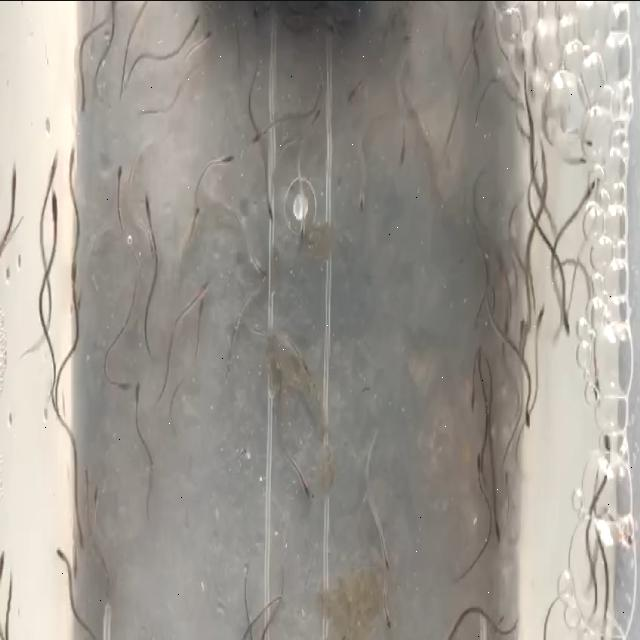active_glass_eel: (58, 135, 76, 193), (180, 207, 206, 246), (294, 350, 320, 388), (210, 146, 240, 178), (70, 274, 88, 324), (72, 508, 88, 564), (249, 113, 271, 153), (141, 182, 157, 236), (293, 460, 311, 506), (113, 360, 133, 400), (110, 152, 130, 192), (192, 292, 212, 332), (130, 366, 148, 408), (292, 200, 306, 253), (617, 518, 636, 556), (50, 538, 70, 574), (249, 246, 269, 280), (344, 78, 364, 112), (76, 449, 91, 493), (194, 21, 218, 48), (49, 136, 63, 182), (574, 127, 596, 155), (74, 82, 90, 120), (48, 182, 60, 232), (192, 276, 212, 305), (589, 365, 601, 413), (396, 125, 410, 166), (519, 388, 532, 432), (600, 426, 614, 466), (0, 544, 13, 586), (488, 510, 502, 548), (559, 300, 573, 338), (71, 538, 83, 582), (358, 178, 370, 222), (570, 150, 590, 175), (88, 476, 101, 514), (379, 540, 394, 572), (581, 180, 597, 210), (383, 598, 394, 640), (265, 180, 275, 224), (308, 104, 324, 130), (474, 446, 484, 486), (516, 315, 527, 349), (468, 380, 477, 418), (536, 304, 546, 336), (502, 466, 511, 501)
